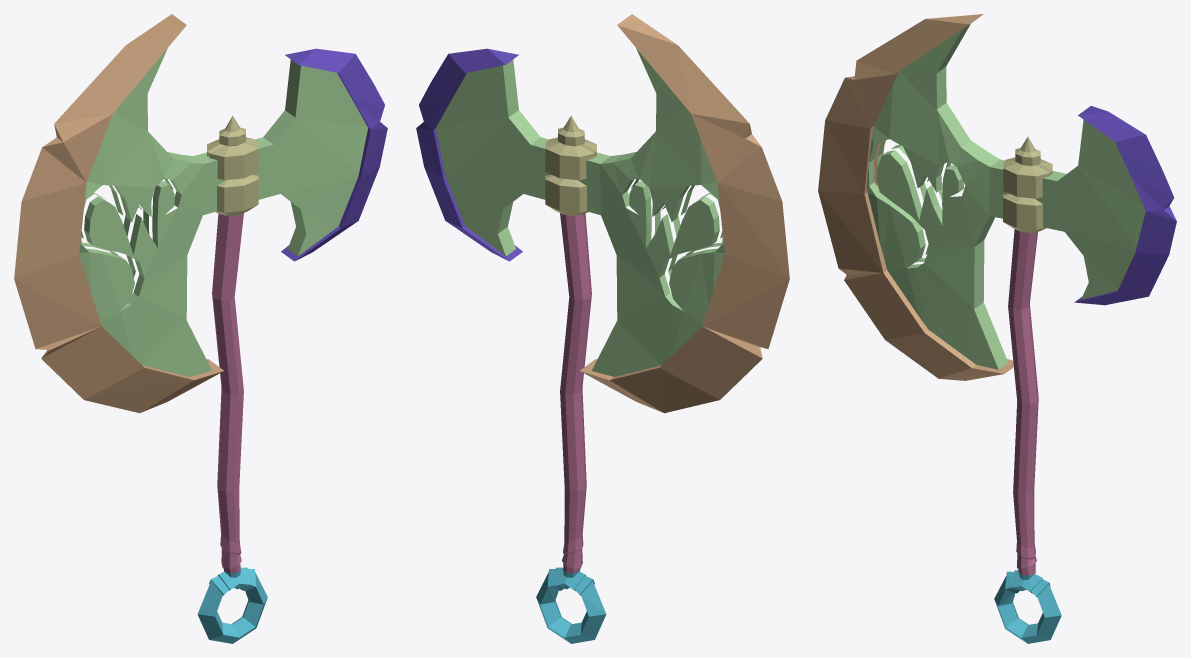
The model's file is post.glb.
3 renders of one model, left to right at view 1: azimuth 30°, elevation 25°; view 2: azimuth 150°, elevation 25°; view 3: azimuth 330°, elevation 25°, orthographic. The views are drawn at different scales.
Visible parts, largest first — view 1: world; view 2: world; view 3: world.
Part boxes in pixels (box(x1,y1,x2,y2)): world: box(14, 14, 387, 643); world: box(416, 14, 789, 643); world: box(818, 14, 1176, 643).
Bounding box in the file's own units: 0.6136 × 1 × 0.0664.
